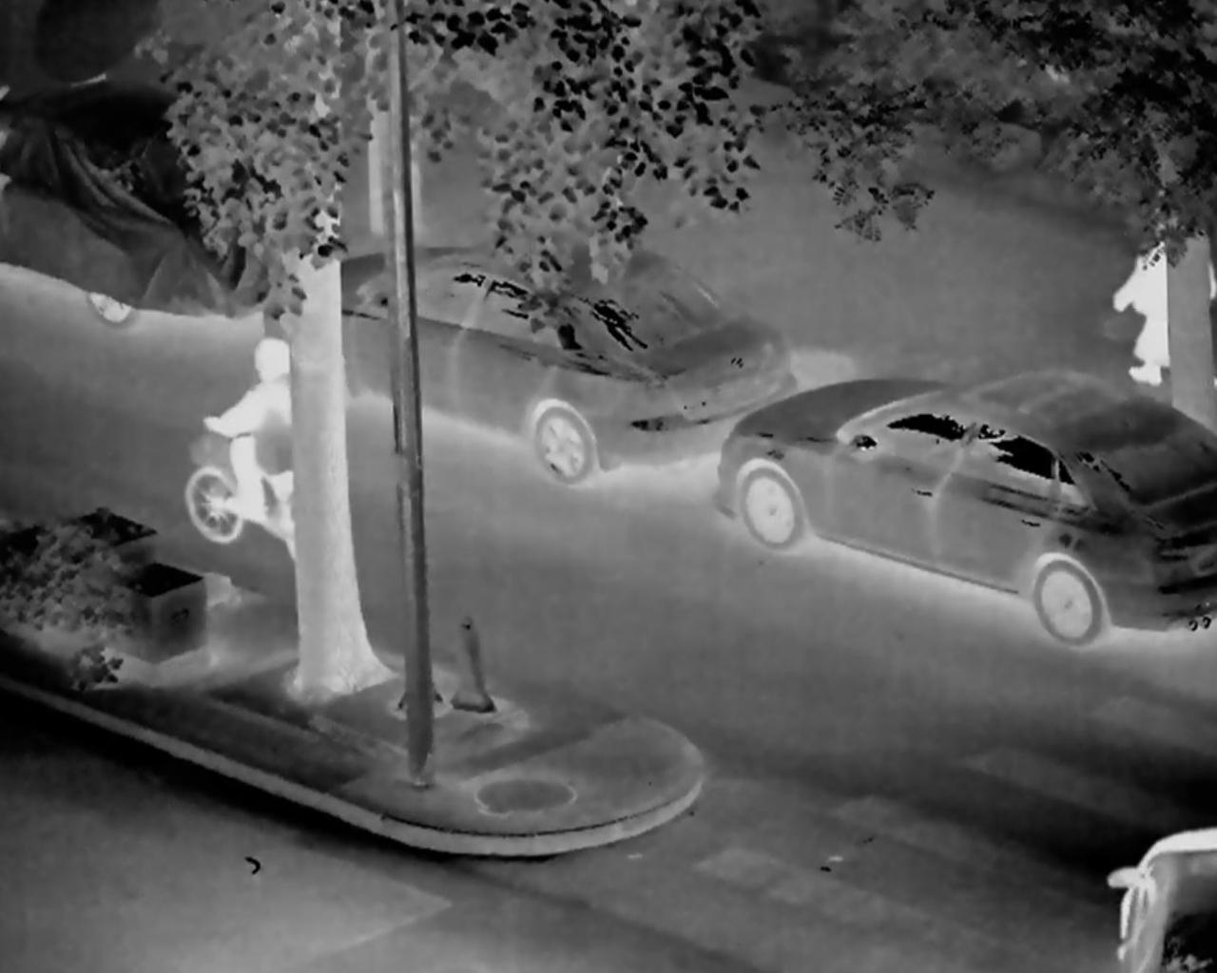person: (189, 335, 314, 540), (1101, 209, 1213, 399)
